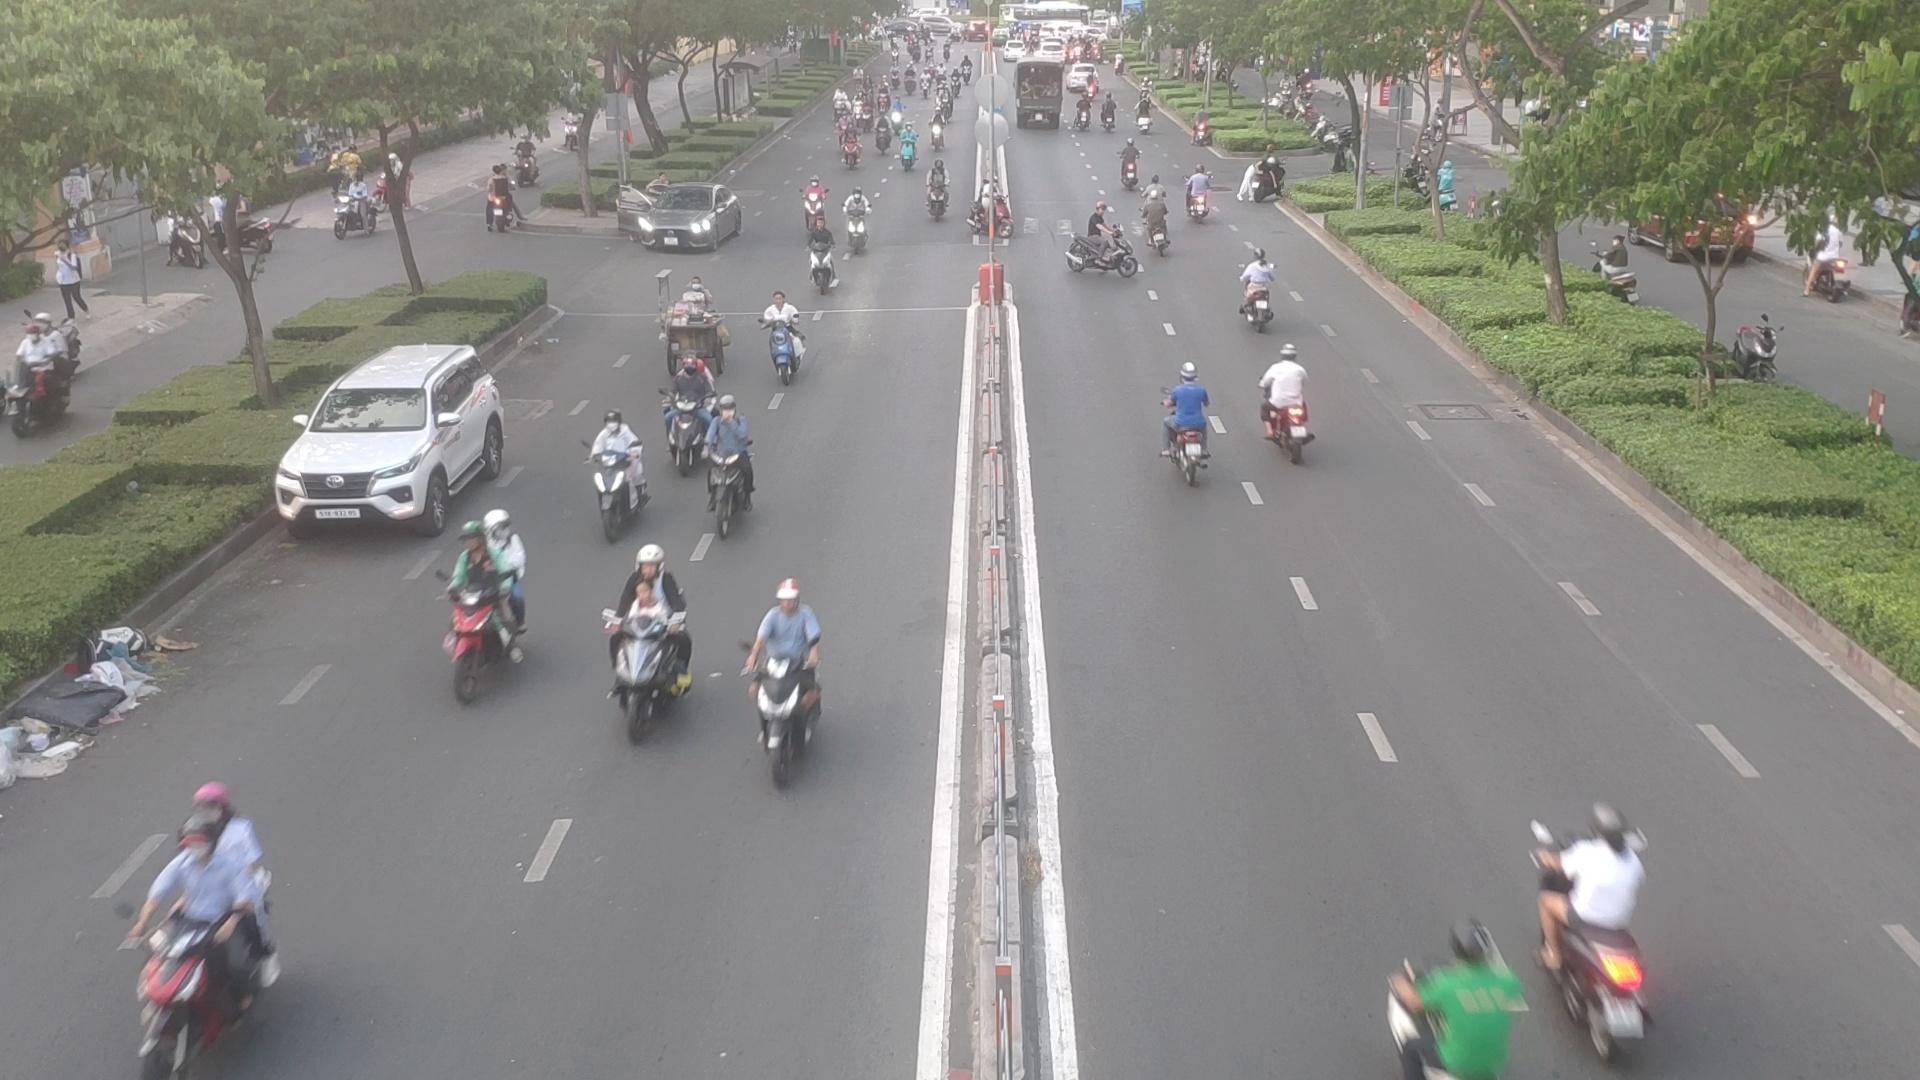car: (272, 343, 512, 534), (622, 187, 750, 257)
motorbike: (120, 785, 286, 1080), (1530, 773, 1654, 1065), (1390, 913, 1530, 1080), (740, 571, 822, 781), (448, 501, 533, 694), (608, 615, 698, 735), (703, 384, 760, 529), (584, 400, 646, 527), (1159, 359, 1215, 497), (1265, 331, 1313, 469), (1062, 207, 1134, 295), (754, 277, 803, 389), (666, 363, 711, 467), (1229, 237, 1276, 326), (800, 227, 844, 301), (833, 185, 870, 255), (1141, 196, 1174, 260), (1180, 171, 1215, 225), (771, 327, 806, 378), (1117, 137, 1143, 194), (923, 166, 949, 218)
